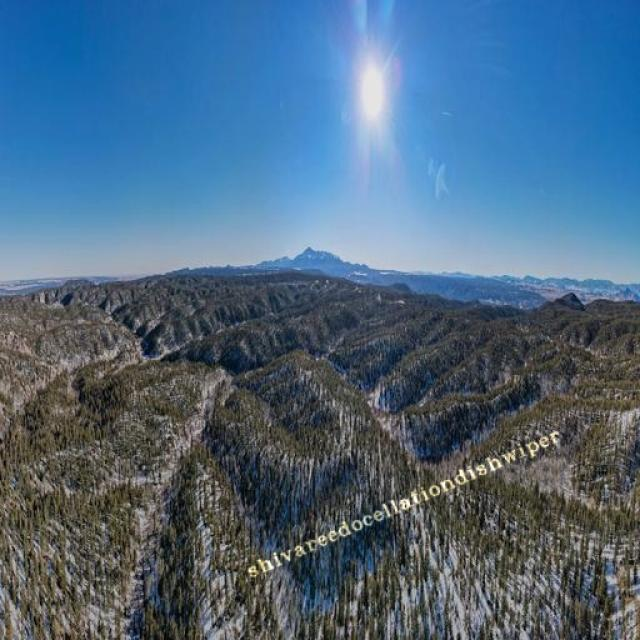watermark: (244, 423, 562, 580)
